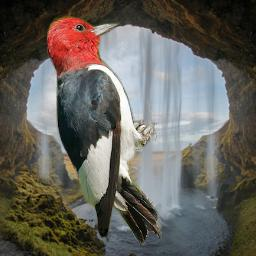Woodpecker: (47, 14, 165, 245)
